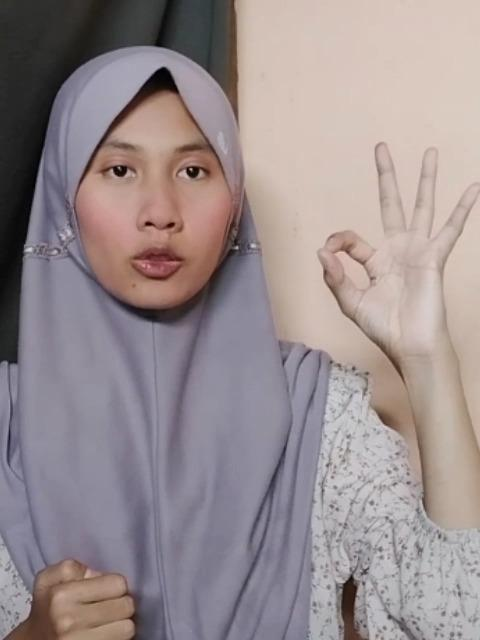F: (320, 136, 480, 362)
